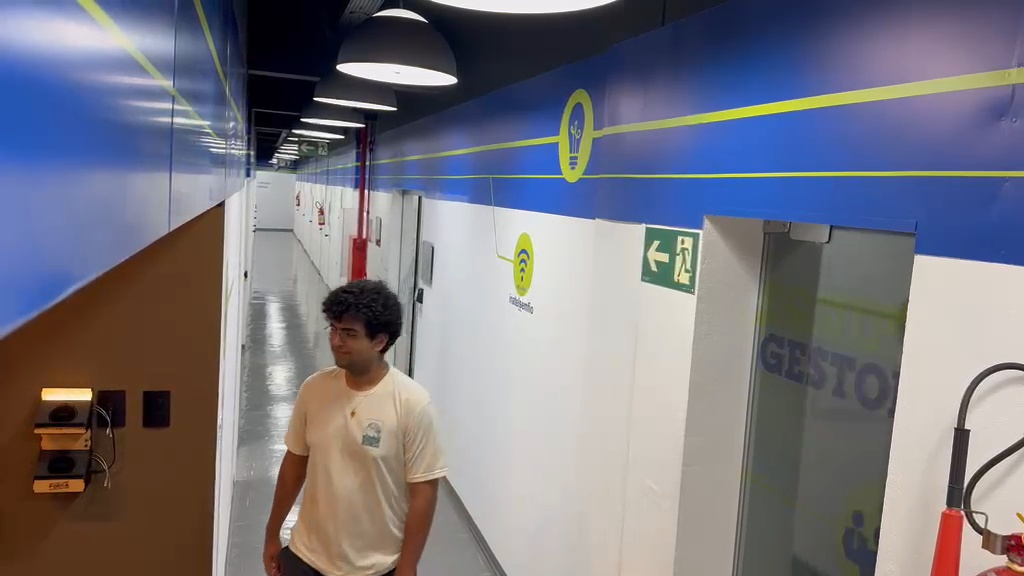person: (261, 279, 447, 574)
